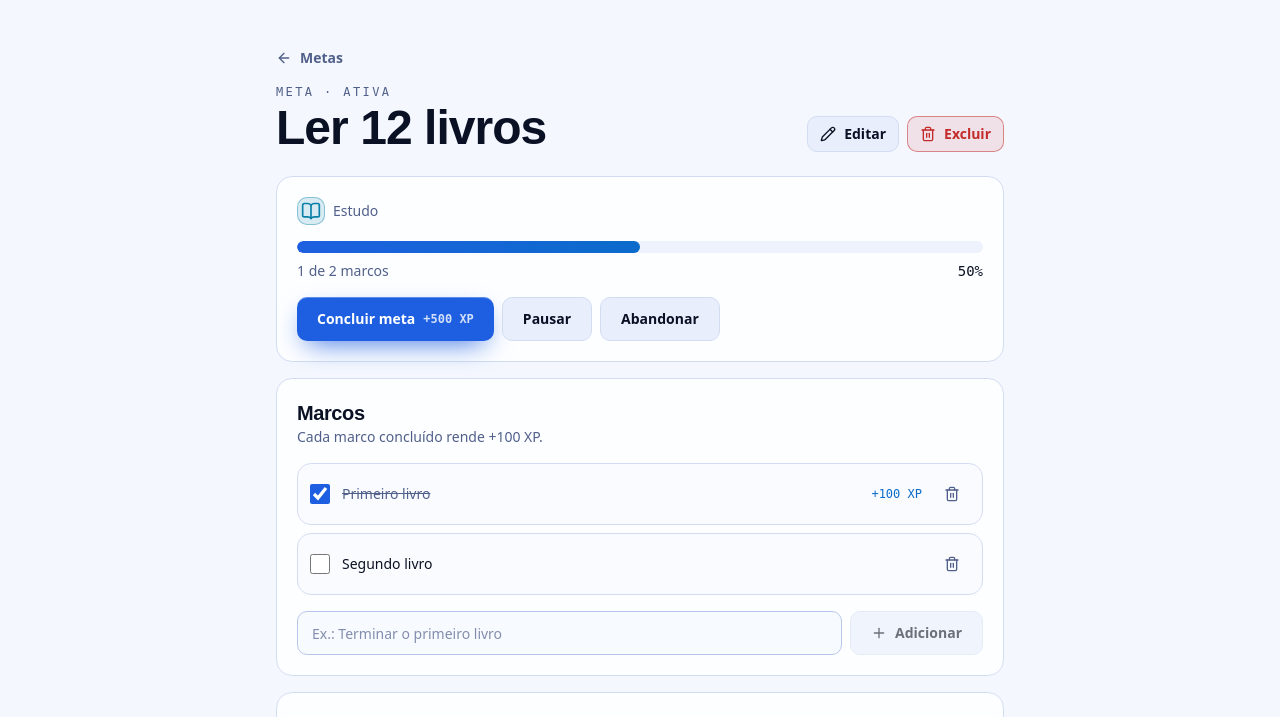
Test: GoalDetailPage › marcos › comemora a subida de nível causada por um marco
Click the checkbox labelled "Segundo livro" at (320, 564), box top-left (310, 554), bottom-right (330, 574)
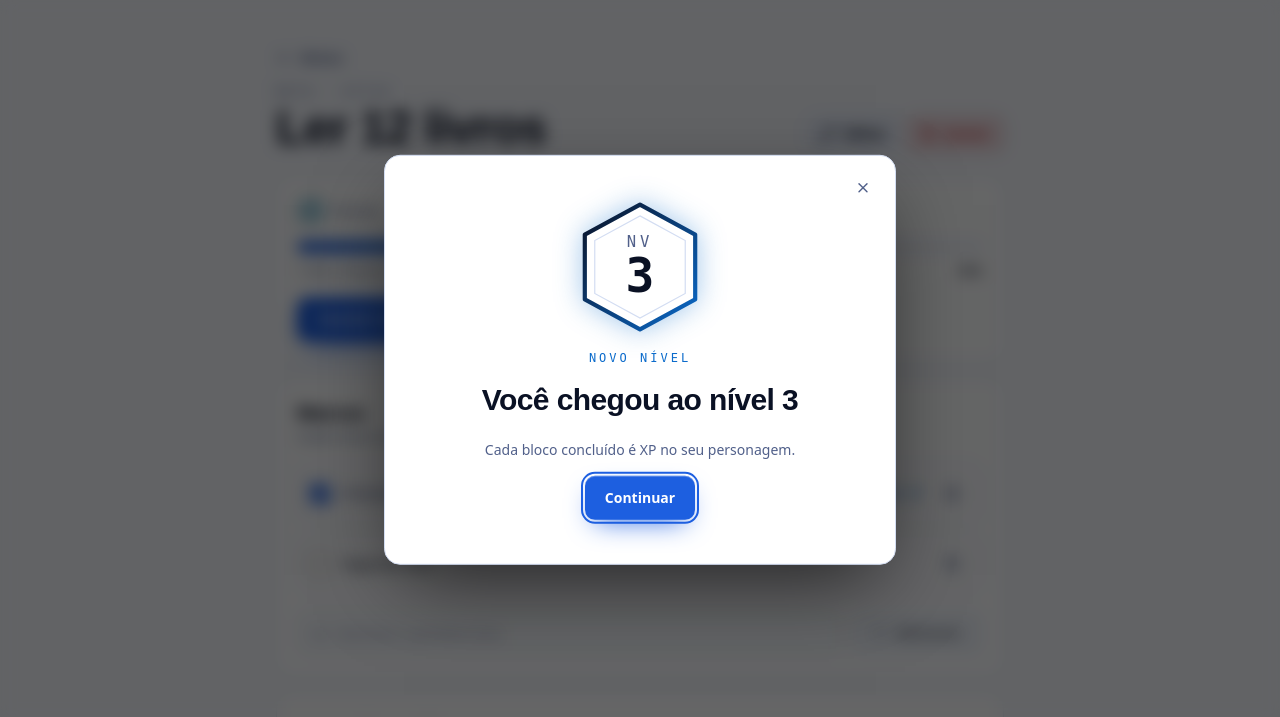
Result: the heading "Você chegou ao nível 3" is shown at top-left (482, 382), bottom-right (798, 418)
